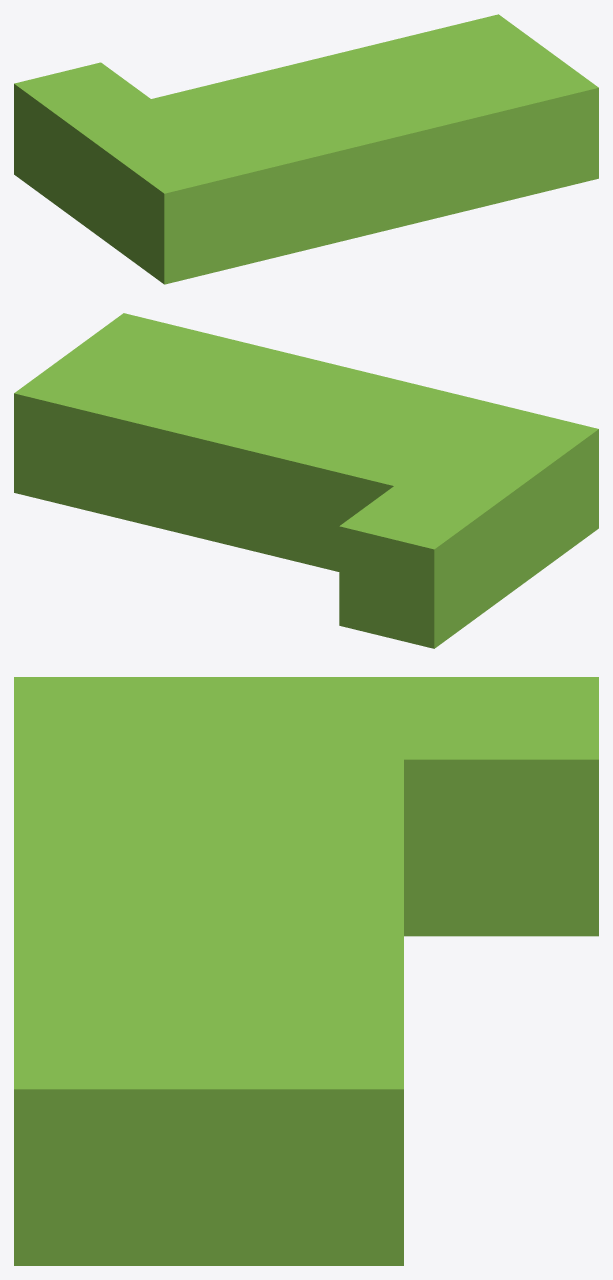
Rendered from x_zem_0_46_1_rmstrd_2.fbx.
3 views of the same model, one above another, from view 1: azimuth 30°, elevation 25°; view 2: azimuth 150°, elevation 25°; view 3: azimuth 270°, elevation 25° (orthographic). The views are drawn at different scales.
Visible parts, largest first — view 1: x_zem_0_46_1_rmstrd_2_1; view 2: x_zem_0_46_1_rmstrd_2_1; view 3: x_zem_0_46_1_rmstrd_2_1.
Boxes of the visible parts, box(x1,y1,x2,y2) form: x_zem_0_46_1_rmstrd_2_1: box(14, 14, 598, 284); x_zem_0_46_1_rmstrd_2_1: box(14, 313, 598, 648); x_zem_0_46_1_rmstrd_2_1: box(14, 677, 598, 1265).
Size of the model in its own units: 5 by 1 by 3.
